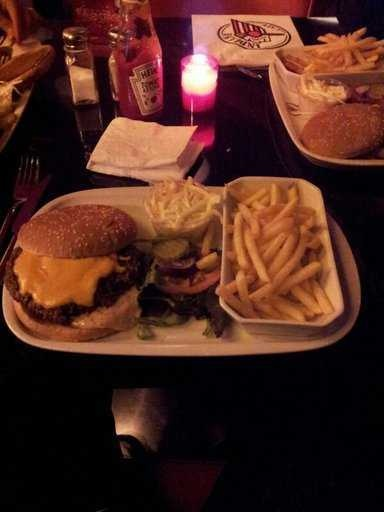hamburger: (1, 201, 132, 347), (297, 103, 384, 153)
